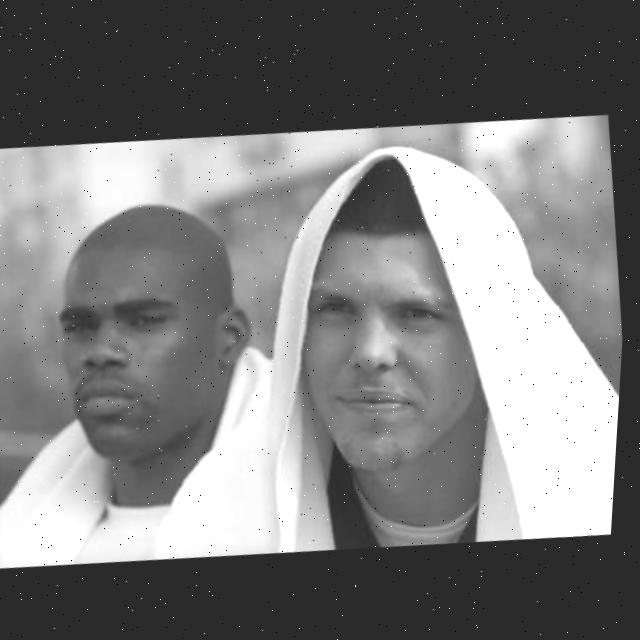face: (280, 153, 542, 476), (41, 192, 246, 481)
